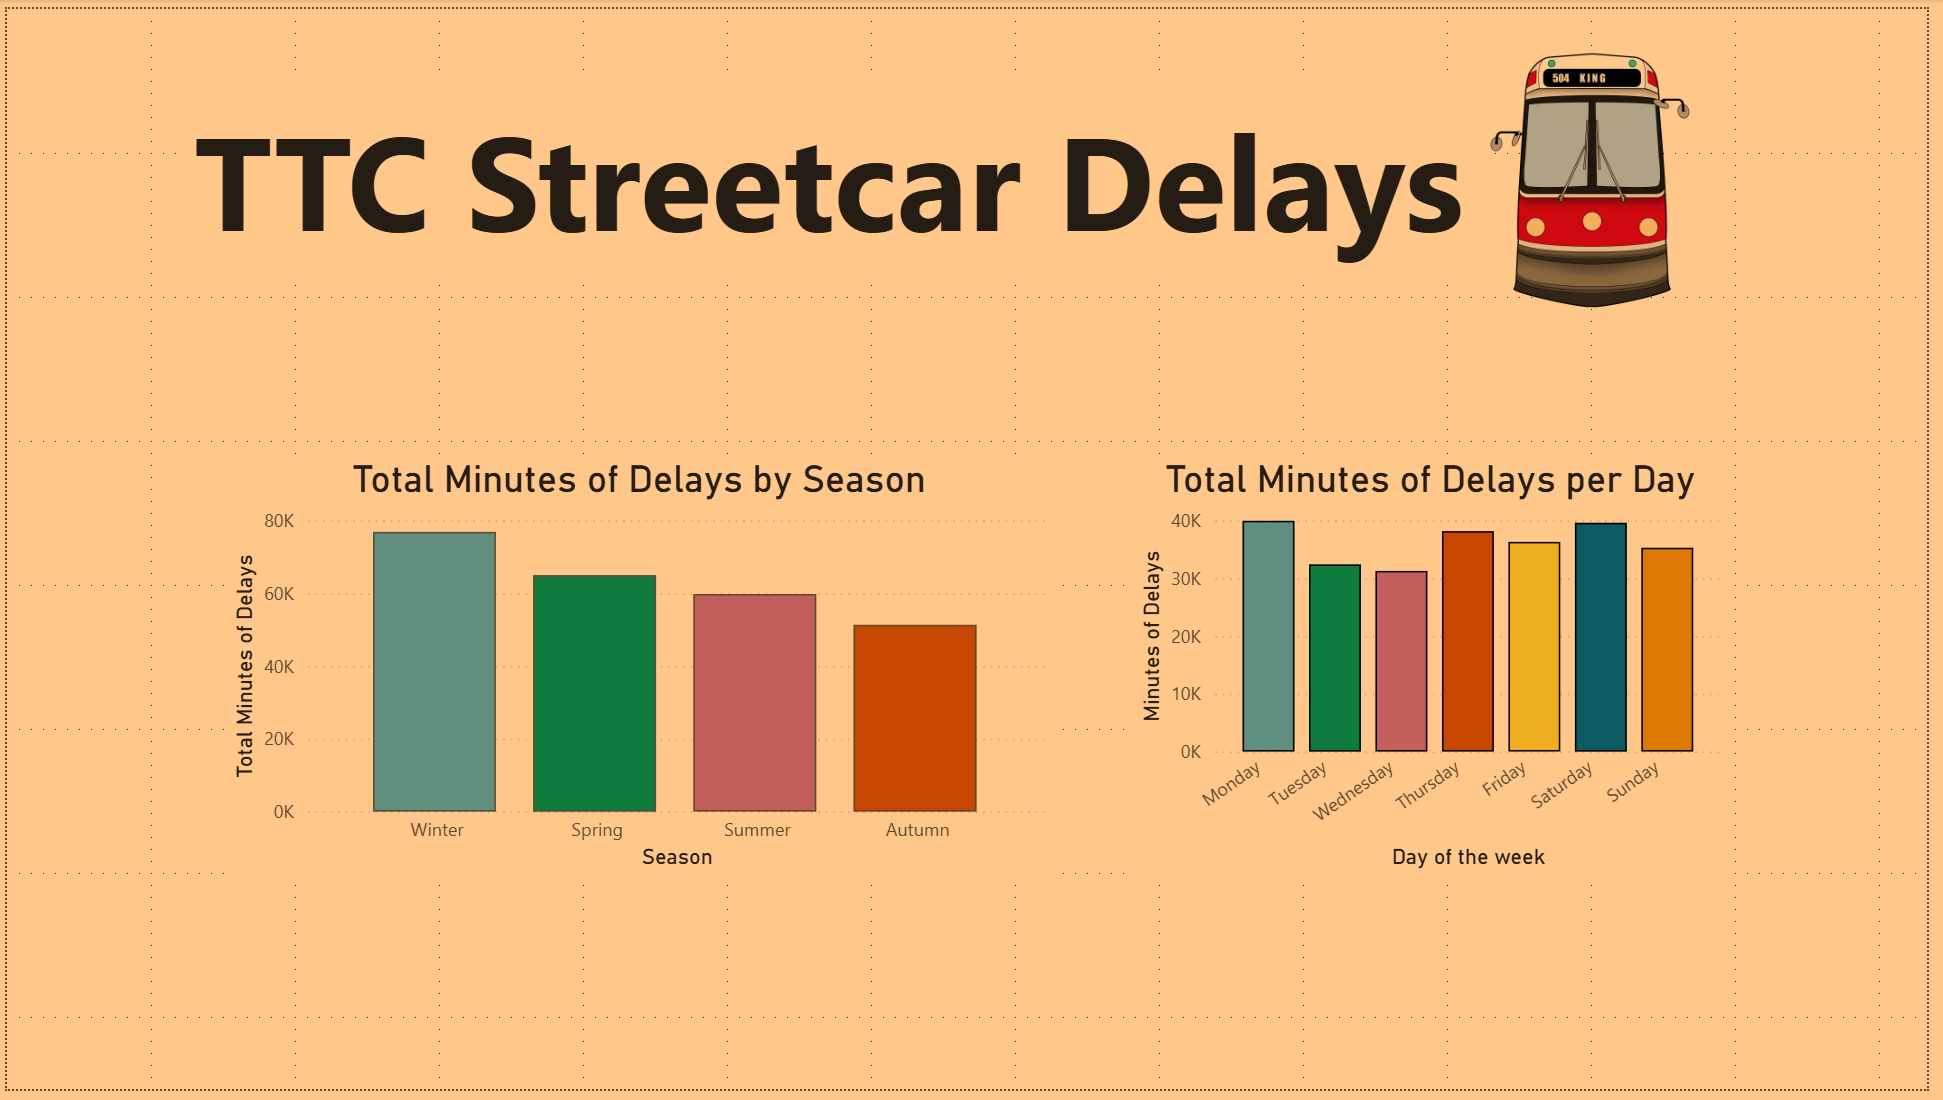

Layout of this report page (visuals, bound fields, positions):
{"tool":"powerbi","page":{"name":"Page 1","canvas":[1280,720],"ordinal":0},"visuals":[{"type":"columnChart","title":"Total Minutes of Delays per Day","fields":{"Category":["TTC Streetcar Delay Data since.Day"],"Y":["Sum(TTC Streetcar Delay Data since.Min Delay)"]},"box":[749.9,298.3,397.8,280],"z":0},{"type":"textbox","box":[120,47.8,867.8,130],"z":1000},{"type":"image","box":[915.6,0,280,226.7],"z":2000},{"type":"columnChart","fields":{"Category":["TTC Streetcar Delay Data since.Season"],"Y":["Sum(TTC Streetcar Delay Data since.Min Delay)"]},"box":[145.5,298.3,552.2,280],"z":2001}]}

Visuals, with their boxes in screenshot pixels (x1, y1, x2, y2), scaled from the page's 1280x720 canvas onto the 1943x1100 screenshot:
"Total Minutes of Delays per Day" columnChart: [x1=1138, y1=456, x2=1742, y2=884]
textbox: [x1=182, y1=73, x2=1499, y2=272]
image: [x1=1390, y1=0, x2=1815, y2=346]
columnChart - TTC Streetcar Delay Data since.Season x Sum(TTC Streetcar Delay Data since.Min Delay): [x1=221, y1=456, x2=1059, y2=884]
